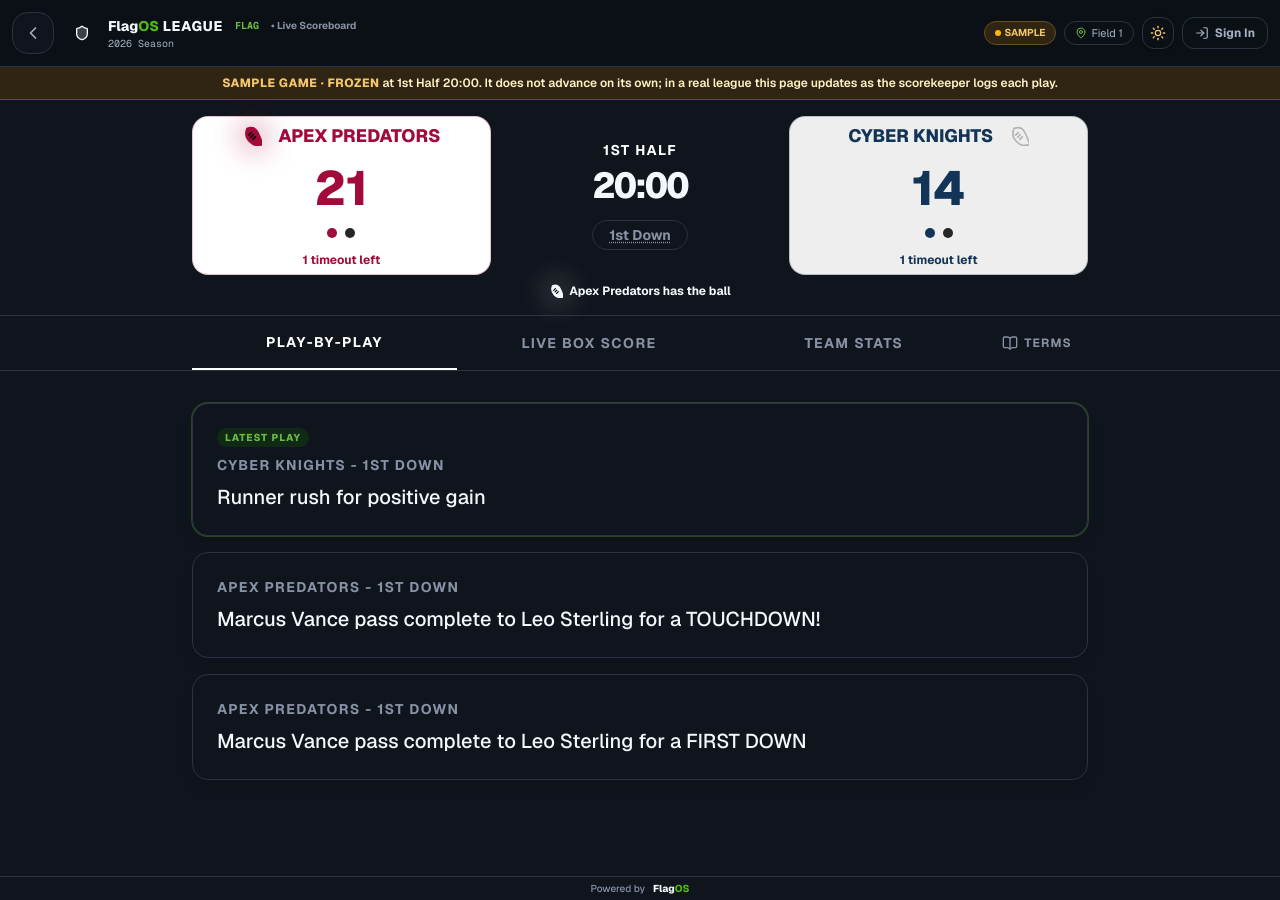
Test case: Live Game Spectator & Box Score Suite (ViewerView) › switches to Box Score tab and calculates player passing, receiving, and defensive stats
Click Live Box Score tab button
Click the button "Live Box Score": click(589, 342) [457, 316, 722, 370]
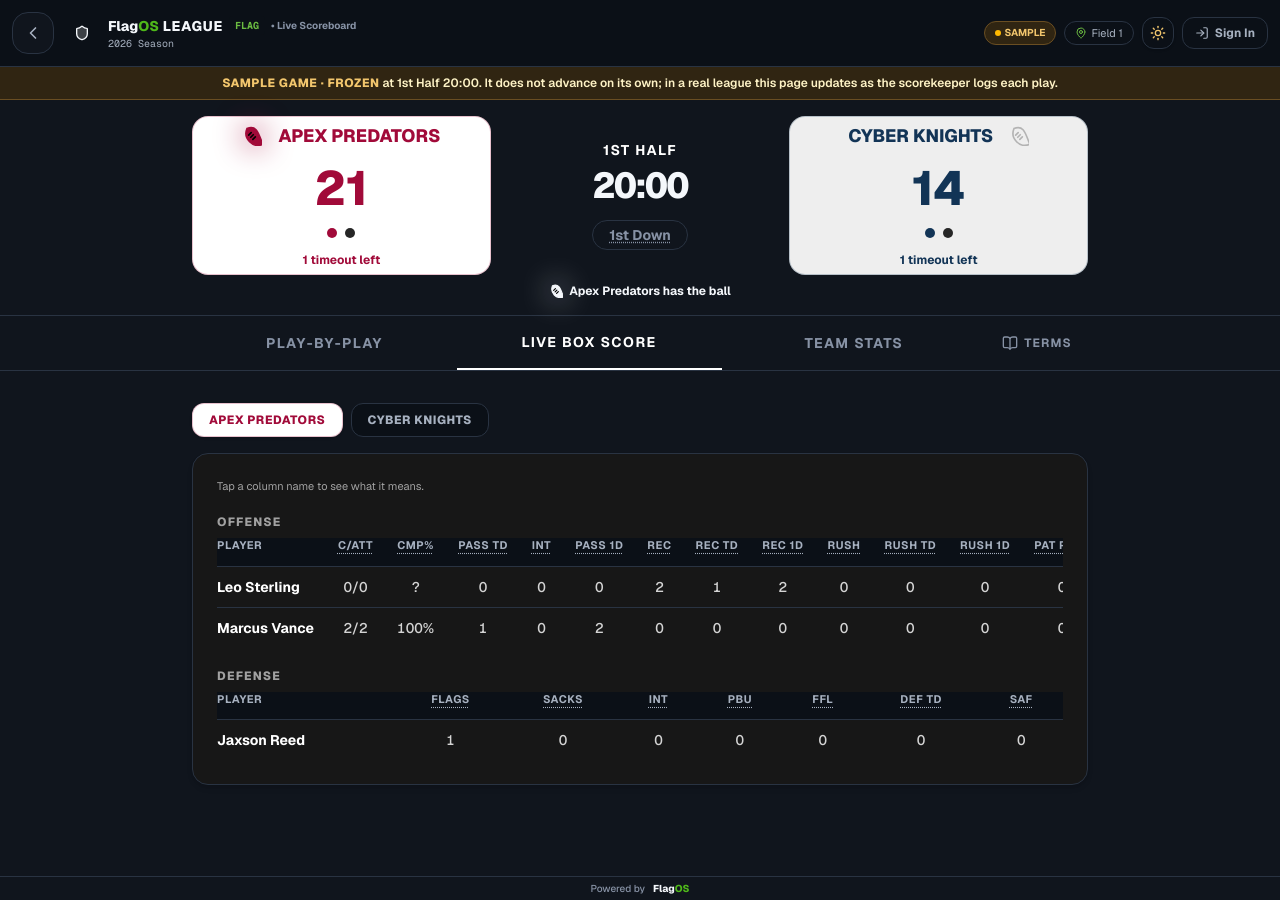
Expected: the text "Marcus Vance" is shown, [217, 619, 314, 637]
Expected: the text "Leo Sterling" is shown, [217, 578, 300, 596]
Switch to Away Team subtab (Cyber Knights)
Click the button "Cyber Knights": click(420, 420) [350, 402, 489, 436]
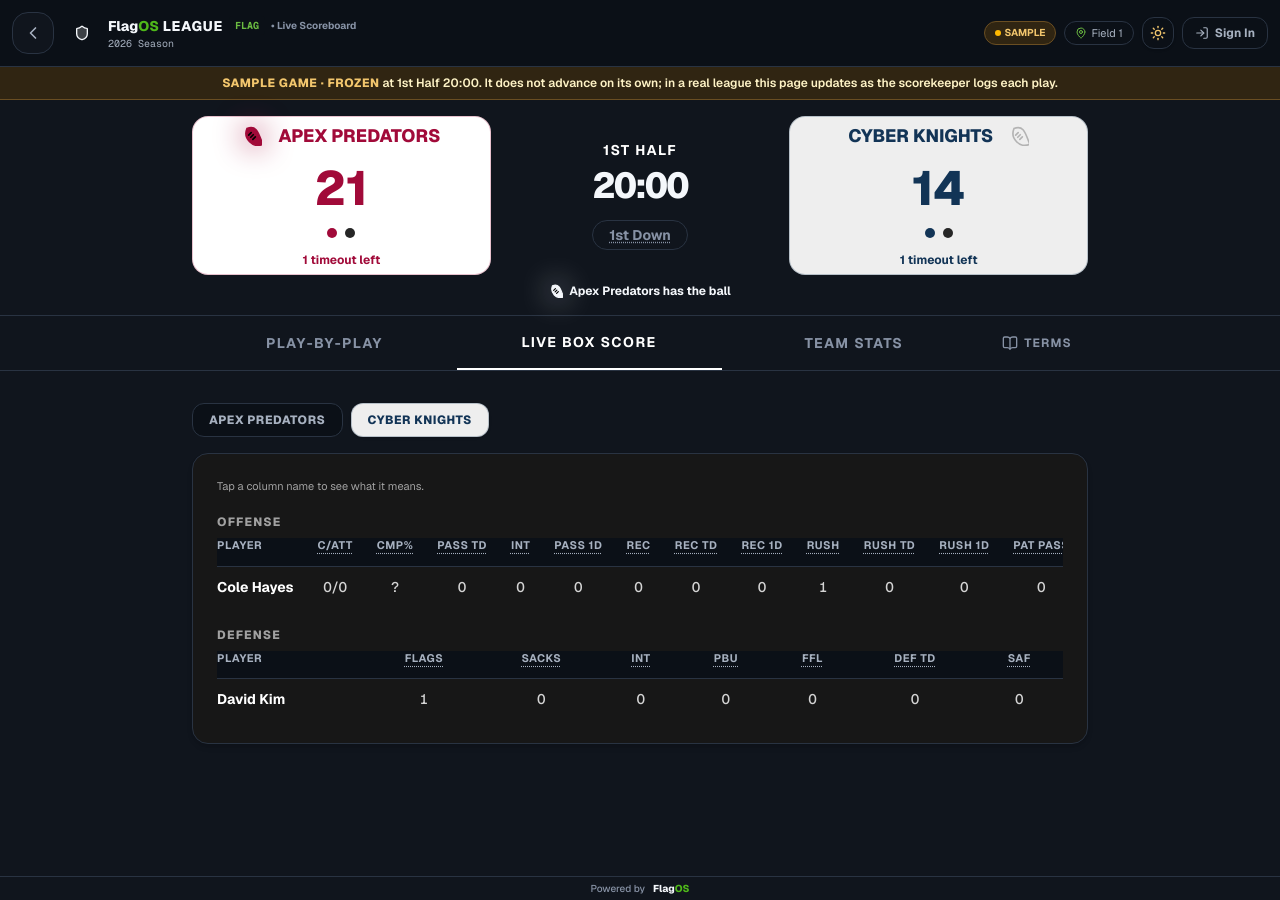
Result: the text "David Kim" is shown at [217, 690, 285, 708]
Result: the text "Cole Hayes" is shown at [217, 578, 294, 596]
